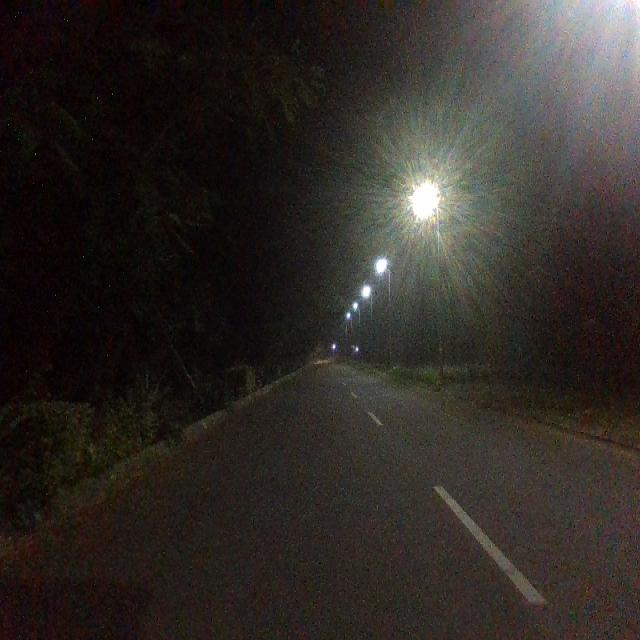lane: (0, 370, 559, 640)
